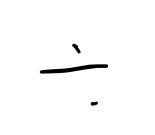div: (40, 43, 109, 105)
